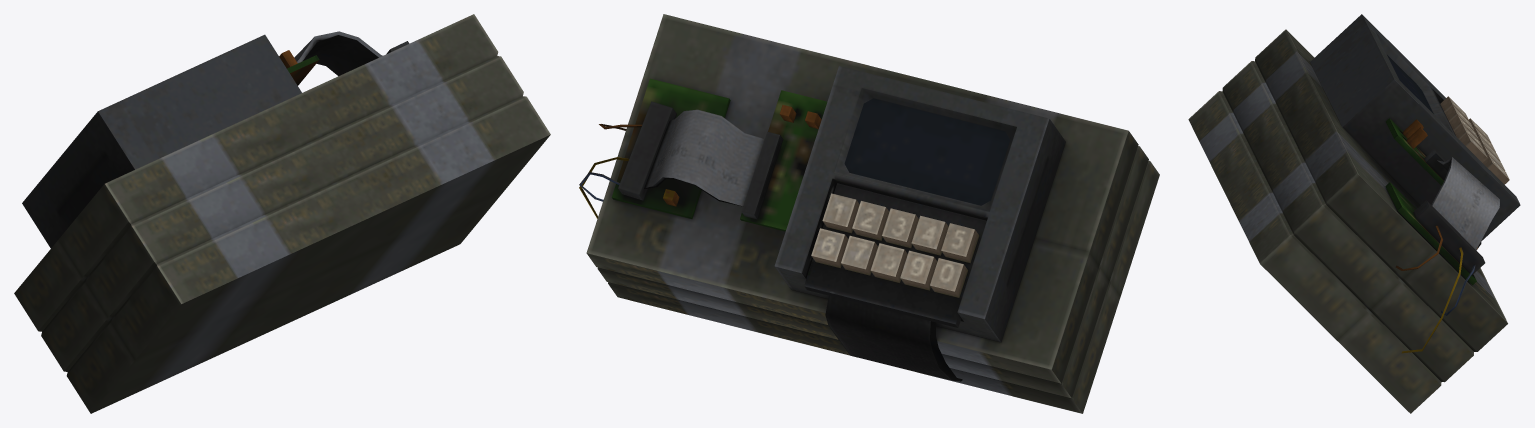
3 renders of one model, left to right at view 1: azimuth 30°, elevation 25°; view 2: azimuth 150°, elevation 25°; view 3: azimuth 270°, elevation 25°, orthographic. The views are drawn at different scales.
Size of the model in its own units: 10.64 by 6.91 by 7.41.
1 material, 1 textured.
